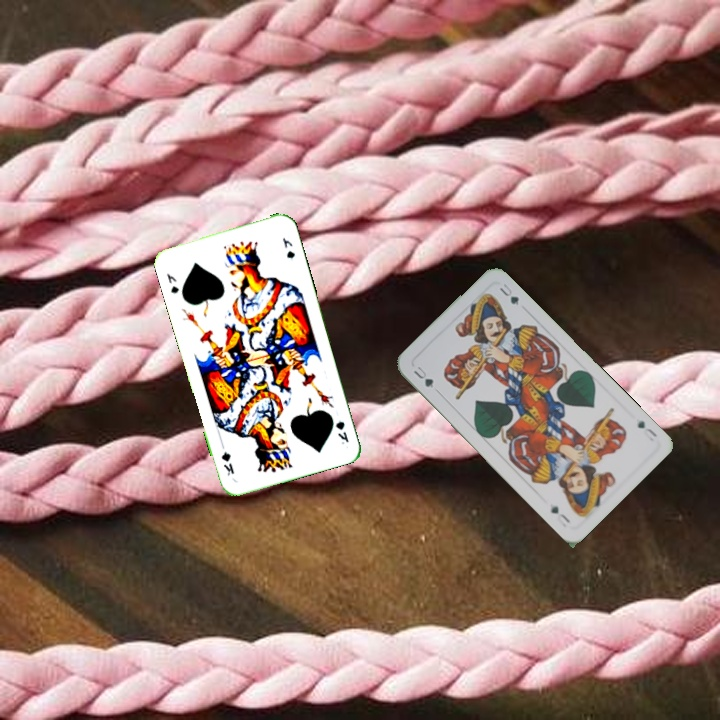GK: (331, 417, 351, 447), (162, 269, 182, 296)
GU: (409, 361, 436, 391), (633, 416, 660, 444)
